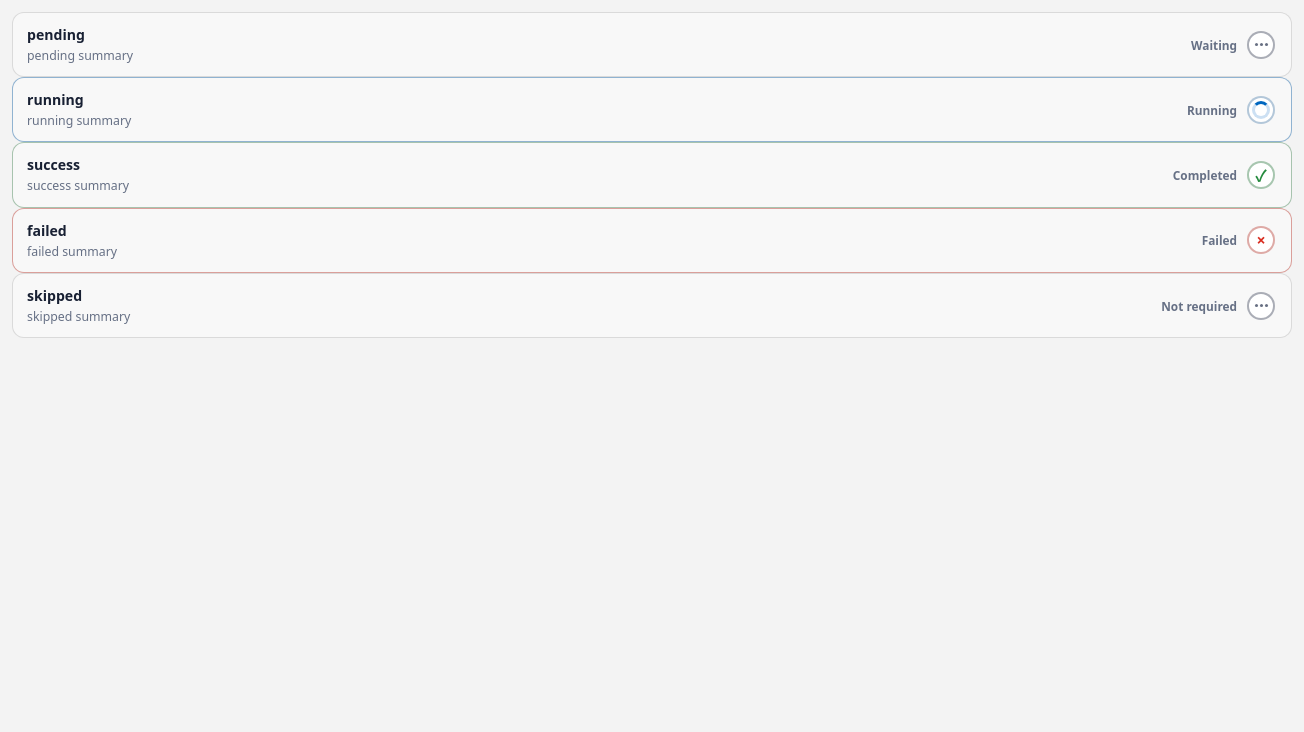
Scenario: step cards show all four visual states and stay collapsed, including failures
The width and height of the screenshot is (1304, 732).
Expected: the text "install-codex" is not shown
Step 1. Click the button "failed failed summary Failed ×" → (47, 230), box [13,209,1291,272]
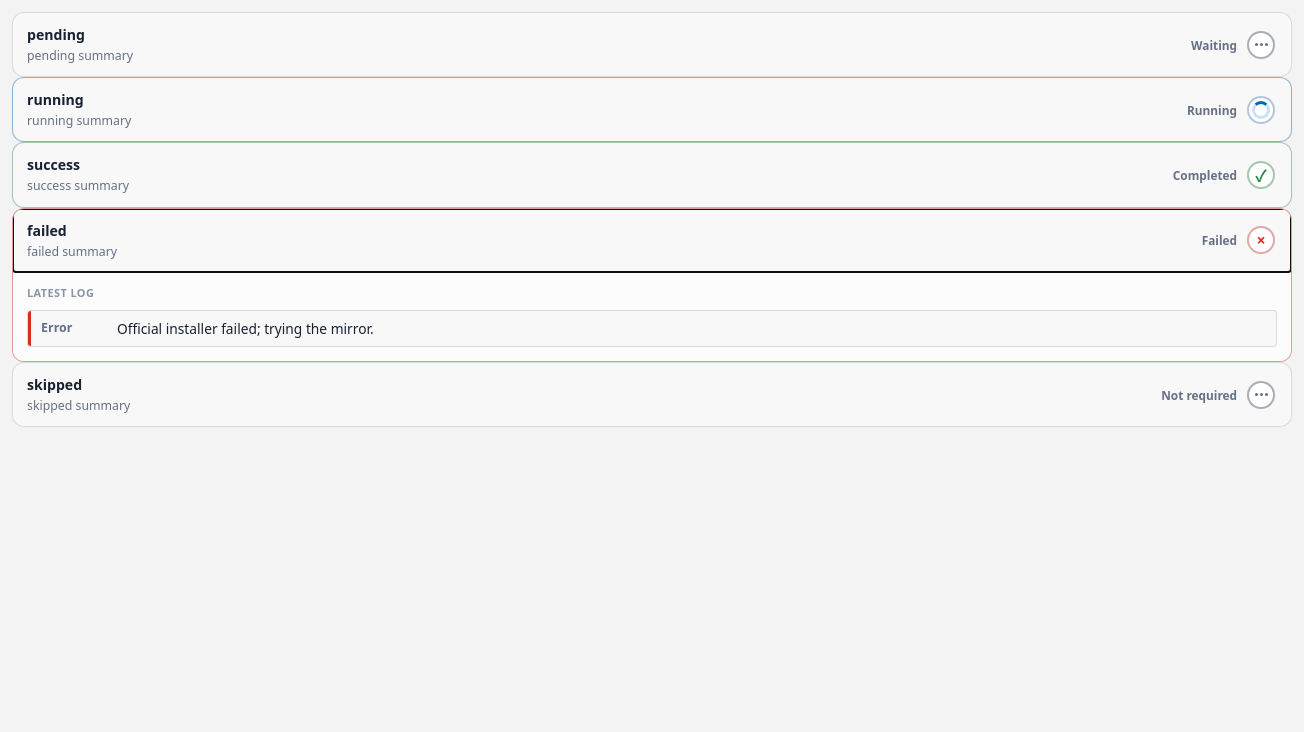
Expected: the text "Latest log" is shown, [27,285,94,300]
Expected: the heading "Official installer failed; trying the mirror." is shown
Step 2. Click the heading "Official installer failed; trying the mirror." → (57, 327), box [28,311,1276,346]
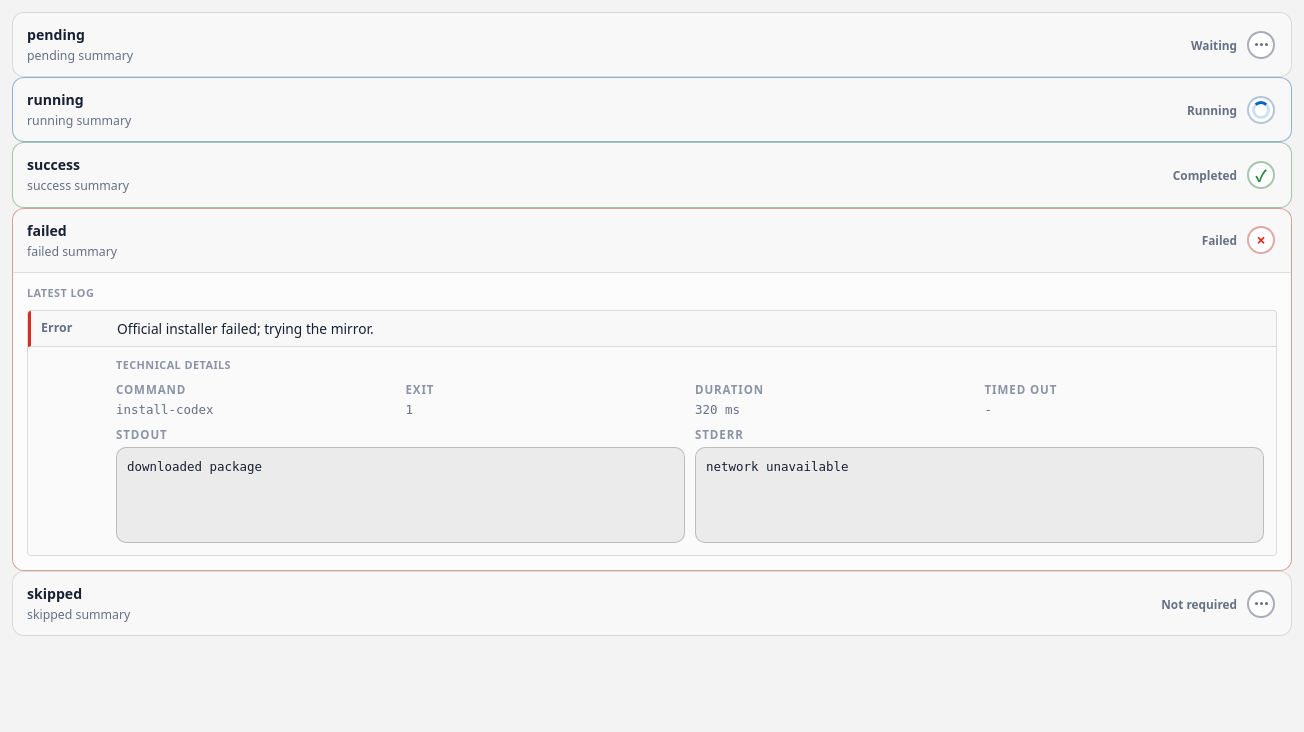
Expected: the text "-" is shown, [984,402,992,417]
Expected: the text "install-codex" is shown, [116,402,214,417]
Expected: the text "network unavailable" is shown, [695,447,1264,543]
